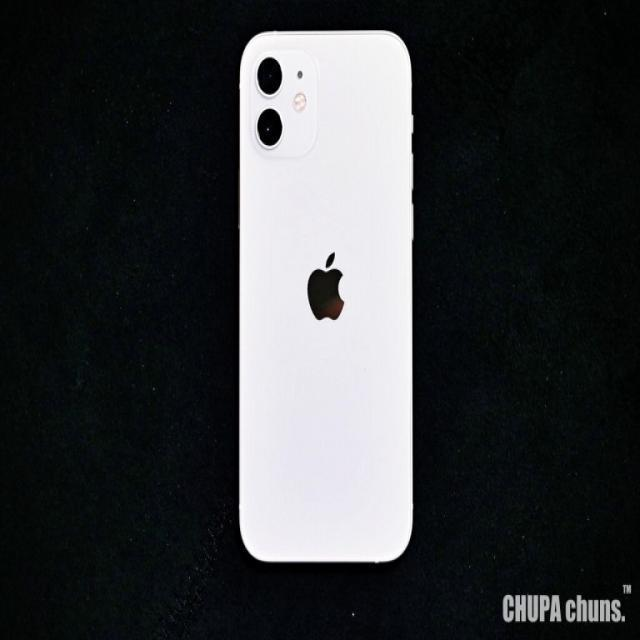phone: (240, 28, 413, 563)
